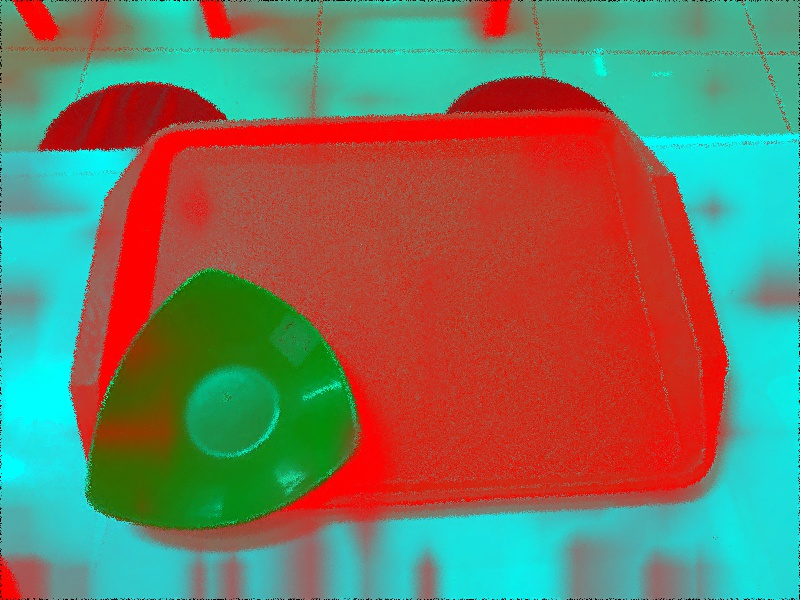dish11: (84, 266, 369, 540)
